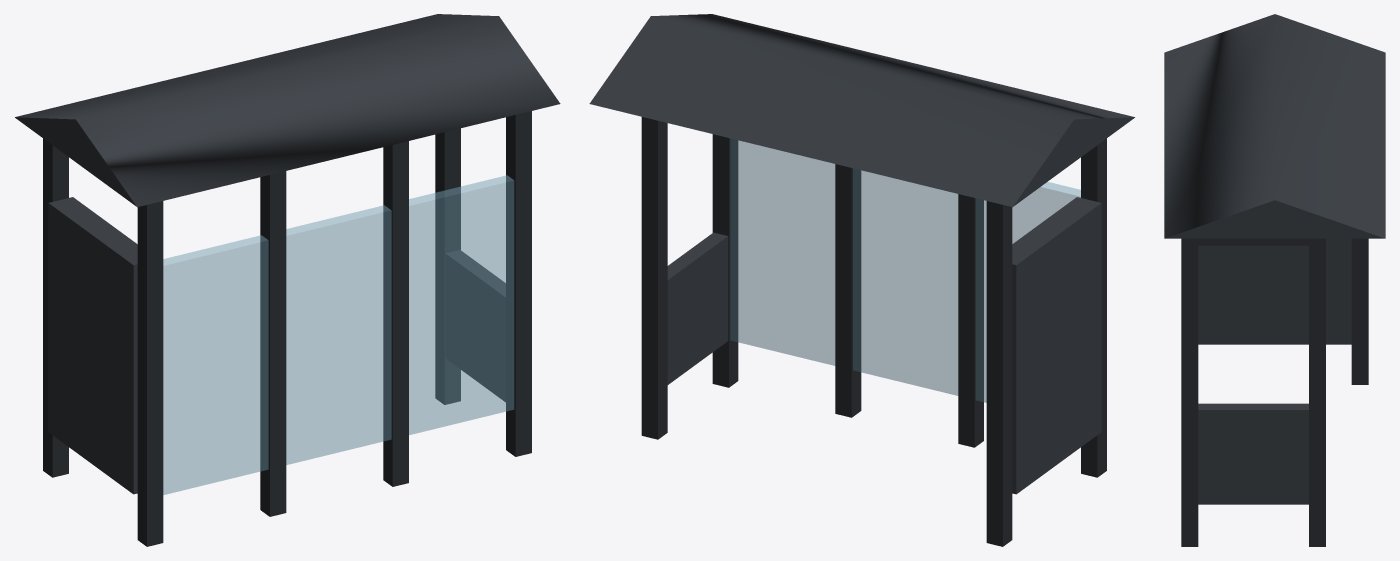
Rendered from busstop.glb.
3 renders of one model, left to right at view 1: azimuth 30°, elevation 25°; view 2: azimuth 150°, elevation 25°; view 3: azimuth 270°, elevation 25°, orthographic. The views are drawn at different scales.
Parts seen in each view (by area): view 1: Wall (×3), RoundRoof, Post (×2), Post|Left, Post|Right; view 2: Wall (×3), RoundRoof, Post|Left, Post (×2), Post|Right; view 3: RoundRoof, Wall (×2), Post|Left, Post|Right.
Boxes of the visible parts, x1,y1,x2,y2 form: Wall (×3): [48, 175, 514, 494]; RoundRoof: [15, 14, 560, 207]; Post (×2): [260, 141, 408, 516]; Post|Left: [435, 111, 531, 456]; Post|Right: [43, 138, 163, 546]; Wall (×3): [667, 138, 1101, 494]; RoundRoof: [589, 14, 1134, 207]; Post|Left: [641, 117, 738, 439]; Post (×2): [835, 164, 983, 447]; Post|Right: [986, 138, 1106, 546]; RoundRoof: [1164, 14, 1385, 238]; Wall (×2): [1198, 238, 1351, 504]; Post|Left: [1181, 238, 1325, 546]; Post|Right: [1351, 238, 1368, 384].
Bounding box in the file's own units: 2.59 × 2.3 × 1.3.
